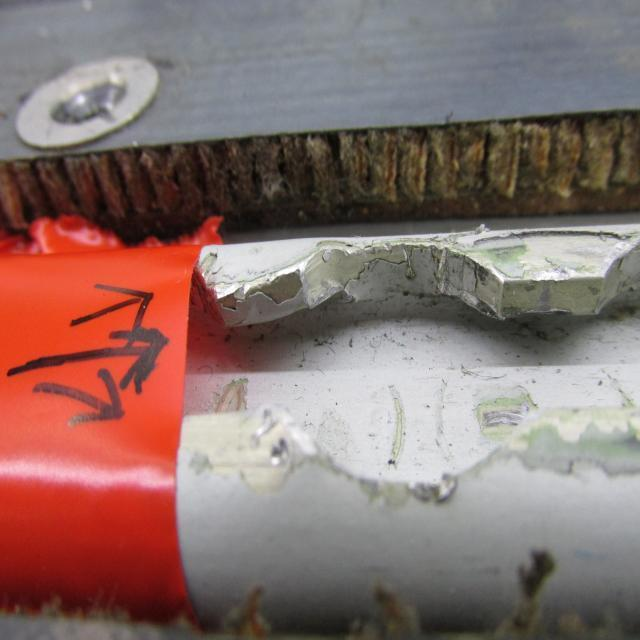Missing Fastener: (25, 48, 147, 140)
dent: (243, 426, 314, 468), (418, 456, 467, 510)
